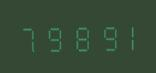eight: (66, 20, 89, 52)
nine: (42, 20, 65, 53), (90, 19, 113, 52)
one: (114, 19, 137, 51)
seven: (18, 21, 41, 53)
